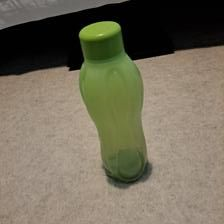bottle: (76, 17, 151, 179)
